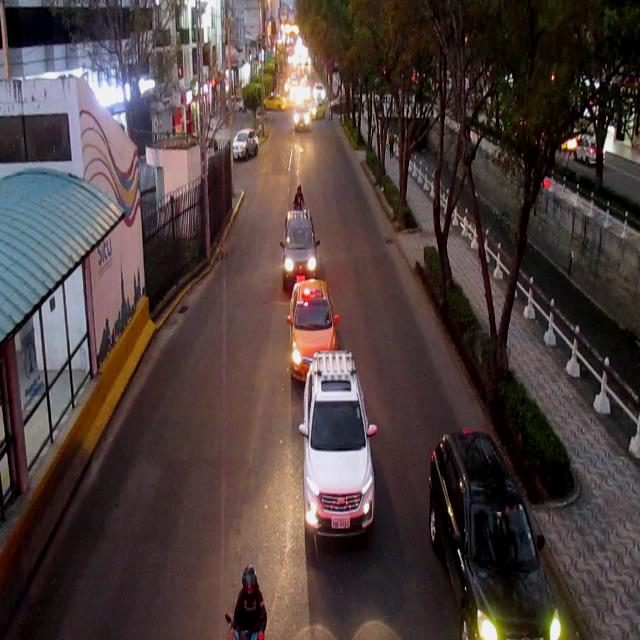SUV: (428, 432, 556, 639), (303, 351, 377, 544), (282, 212, 320, 282), (235, 130, 258, 160)
